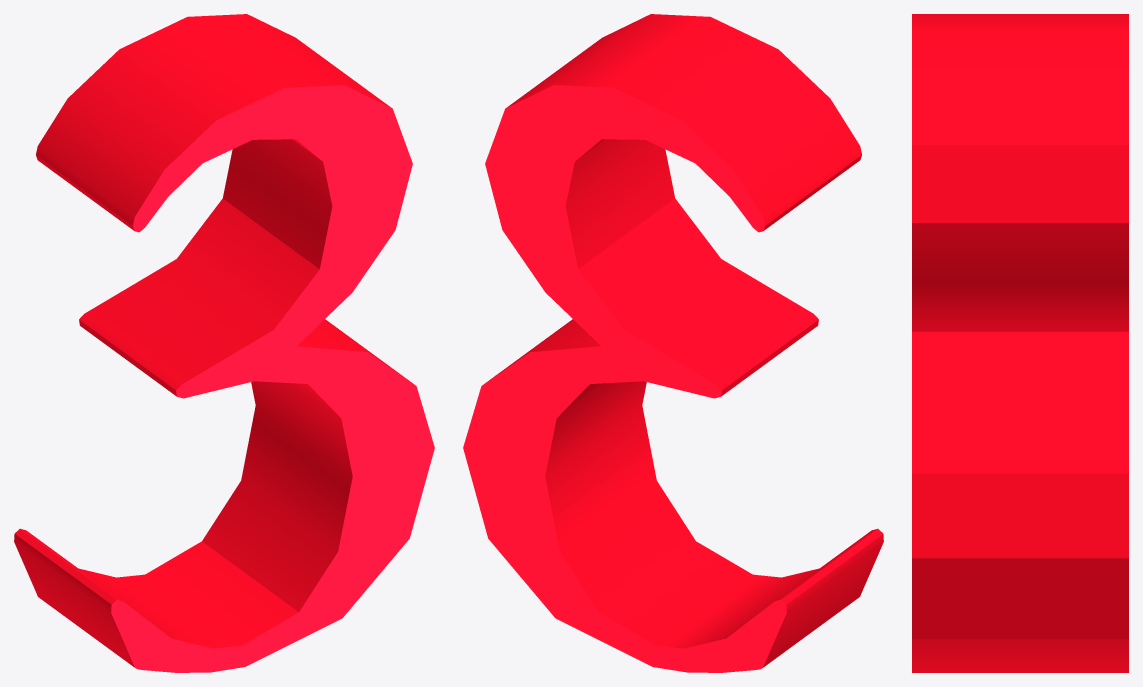
3 renders of one model, left to right at view 1: azimuth 30°, elevation 25°; view 2: azimuth 150°, elevation 25°; view 3: azimuth 270°, elevation 25°, orthographic. The views are drawn at different scales.
Parts seen in each view (by area): view 1: 3_Soul_Red; view 2: 3_Soul_Red; view 3: 3_Soul_Red.
Boxes of the visible parts, bbox=[...] form: 3_Soul_Red: bbox=[14, 14, 434, 672]; 3_Soul_Red: bbox=[463, 14, 883, 672]; 3_Soul_Red: bbox=[912, 14, 1128, 672].
Size of what is drawn, in the model's own units: 0.0867 by 0.1457 by 0.045.
Materials: 2 (2 with a texture image).
